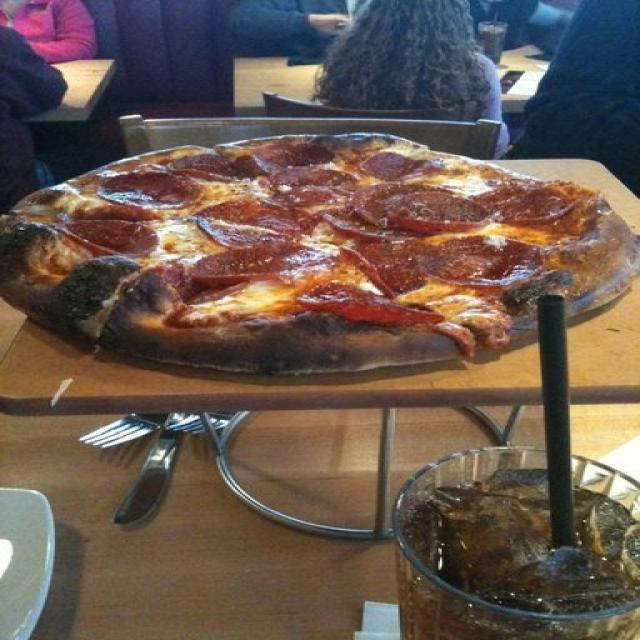Pepperoni: (198, 247, 322, 300), (434, 236, 549, 288), (71, 203, 159, 259), (200, 200, 314, 243), (306, 292, 447, 325), (347, 239, 440, 289), (265, 168, 358, 202), (95, 176, 200, 206), (393, 192, 482, 225), (334, 186, 389, 236), (489, 188, 570, 221), (172, 156, 254, 181), (267, 145, 333, 167), (369, 152, 424, 177)
